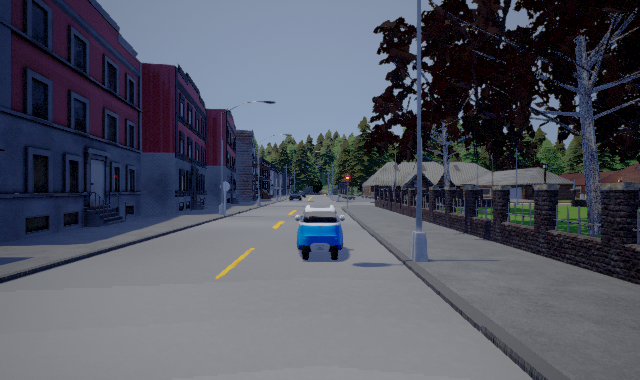traffic_light: (346, 174, 349, 188)
vehicle: (295, 201, 346, 260)
